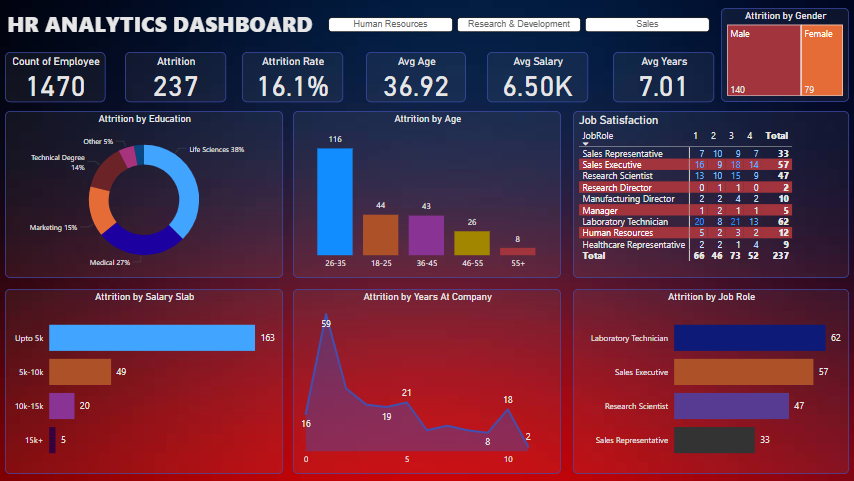

This screenshot's page, from the dashboard's own definition file:
{"tool":"powerbi","page":{"name":"Page 1","canvas":[1280,720],"ordinal":0},"visuals":[{"type":"card","title":"Count of Employee","fields":{"Values":["CountNonNull(HR_Analytics.EmpID)"]},"box":[9.9,79,150,75],"z":0},{"type":"card","title":"Attrition","fields":{"Values":["Sum(HR_Analytics.AttritionCount)"]},"box":[189.6,79.1,150.7,74.6],"z":1000},{"type":"card","title":"Avg Age","fields":{"Values":["Avg(HR_Analytics.Age)"]},"box":[549.3,79.1,149.3,74.6],"z":2000},{"type":"card","title":"Avg Salary","fields":{"Values":["Avg(HR_Analytics.MonthlyIncome)"]},"box":[729.9,79.1,150.7,74.6],"z":3000},{"type":"card","title":"Attrition Rate","fields":{"Values":["HR_Analytics.AttritionRate"]},"box":[364.2,79.1,150.7,74.6],"z":4000},{"type":"card","title":"Avg Years","fields":{"Values":["Avg(HR_Analytics.YearsAtCompany)"]},"box":[917.9,79.1,150.7,74.6],"z":5000},{"type":"donutChart","title":"Attrition by Education","fields":{"Category":["HR_Analytics.EducationField"],"Y":["Sum(HR_Analytics.AttritionCount)"]},"box":[10.4,167.2,414.9,249.3],"z":6000},{"type":"clusteredColumnChart","title":"Attrition by Age","fields":{"Category":["HR_Analytics.AgeGroup"],"Y":["Sum(HR_Analytics.AttritionCount)"]},"box":[440.3,167.2,400,249.3],"z":7000},{"type":"pivotTable","title":"Job Satisfaction","fields":{"Rows":["HR_Analytics.JobRole"],"Columns":["HR_Analytics.JobSatisfaction"],"Values":["Sum(HR_Analytics.AttritionCount)"]},"box":[858.2,167.2,411.9,249.3],"z":8000},{"type":"barChart","title":"Attrition by Salary Slab","fields":{"Category":["HR_Analytics.SalarySlab"],"Y":["Sum(HR_Analytics.AttritionCount)"]},"box":[10.4,432.8,414.9,276.1],"z":9000},{"type":"barChart","title":"Attrition by Job Role","fields":{"Category":["HR_Analytics.JobRole"],"Y":["Sum(HR_Analytics.AttritionCount)"]},"box":[858.2,432.8,411.9,276.1],"z":10000},{"type":"areaChart","title":"Attrition by Years At Company","fields":{"Category":["HR_Analytics.YearsAtCompany"],"Y":["Sum(HR_Analytics.AttritionCount)"]},"box":[440.3,432.8,400,276.1],"z":11000},{"type":"treemap","title":"Attrition by Gender","fields":{"Group":["HR_Analytics.Gender"],"Values":["Sum(HR_Analytics.AttritionCount)"]},"box":[1079.1,13.4,191,140.3],"z":12000},{"type":"ChicletSlicer1448559807354","fields":{"Category":["HR_Analytics.Department"]},"box":[485,20,585.1,50.7],"z":13000},{"type":"textbox","box":[0,9,483.6,53.7],"z":14000}]}

Visuals, with their boxes in screenshot pixels (x1, y1, x2, y2), scaled from the page's 1280x720 canvas onto the 854x481 screenshot:
"Count of Employee" card: BBox(7, 53, 107, 103)
"Attrition" card: BBox(126, 53, 227, 103)
"Avg Age" card: BBox(366, 53, 466, 103)
"Avg Salary" card: BBox(487, 53, 588, 103)
"Attrition Rate" card: BBox(243, 53, 344, 103)
"Avg Years" card: BBox(612, 53, 713, 103)
"Attrition by Education" donutChart: BBox(7, 112, 284, 278)
"Attrition by Age" clusteredColumnChart: BBox(294, 112, 561, 278)
"Job Satisfaction" pivotTable: BBox(573, 112, 847, 278)
"Attrition by Salary Slab" barChart: BBox(7, 289, 284, 474)
"Attrition by Job Role" barChart: BBox(573, 289, 847, 474)
"Attrition by Years At Company" areaChart: BBox(294, 289, 561, 474)
"Attrition by Gender" treemap: BBox(720, 9, 847, 103)
ChicletSlicer1448559807354 - HR_Analytics.Department: BBox(324, 13, 714, 47)
textbox: BBox(0, 6, 323, 42)
